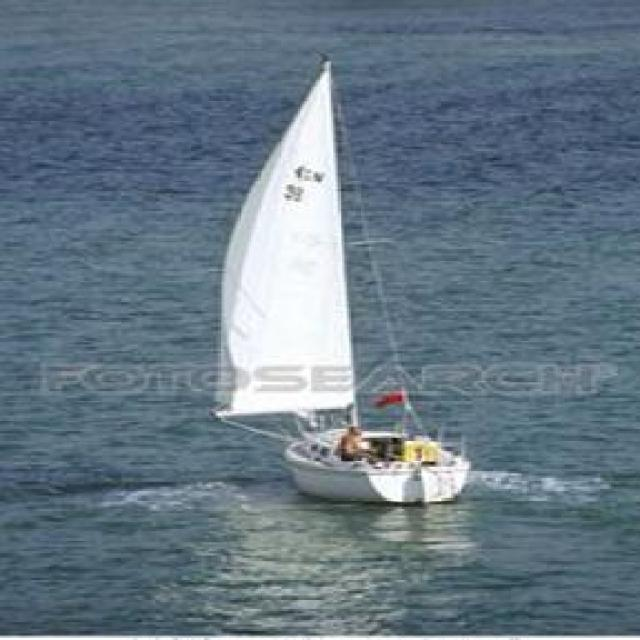sailboat: (212, 48, 472, 508)
